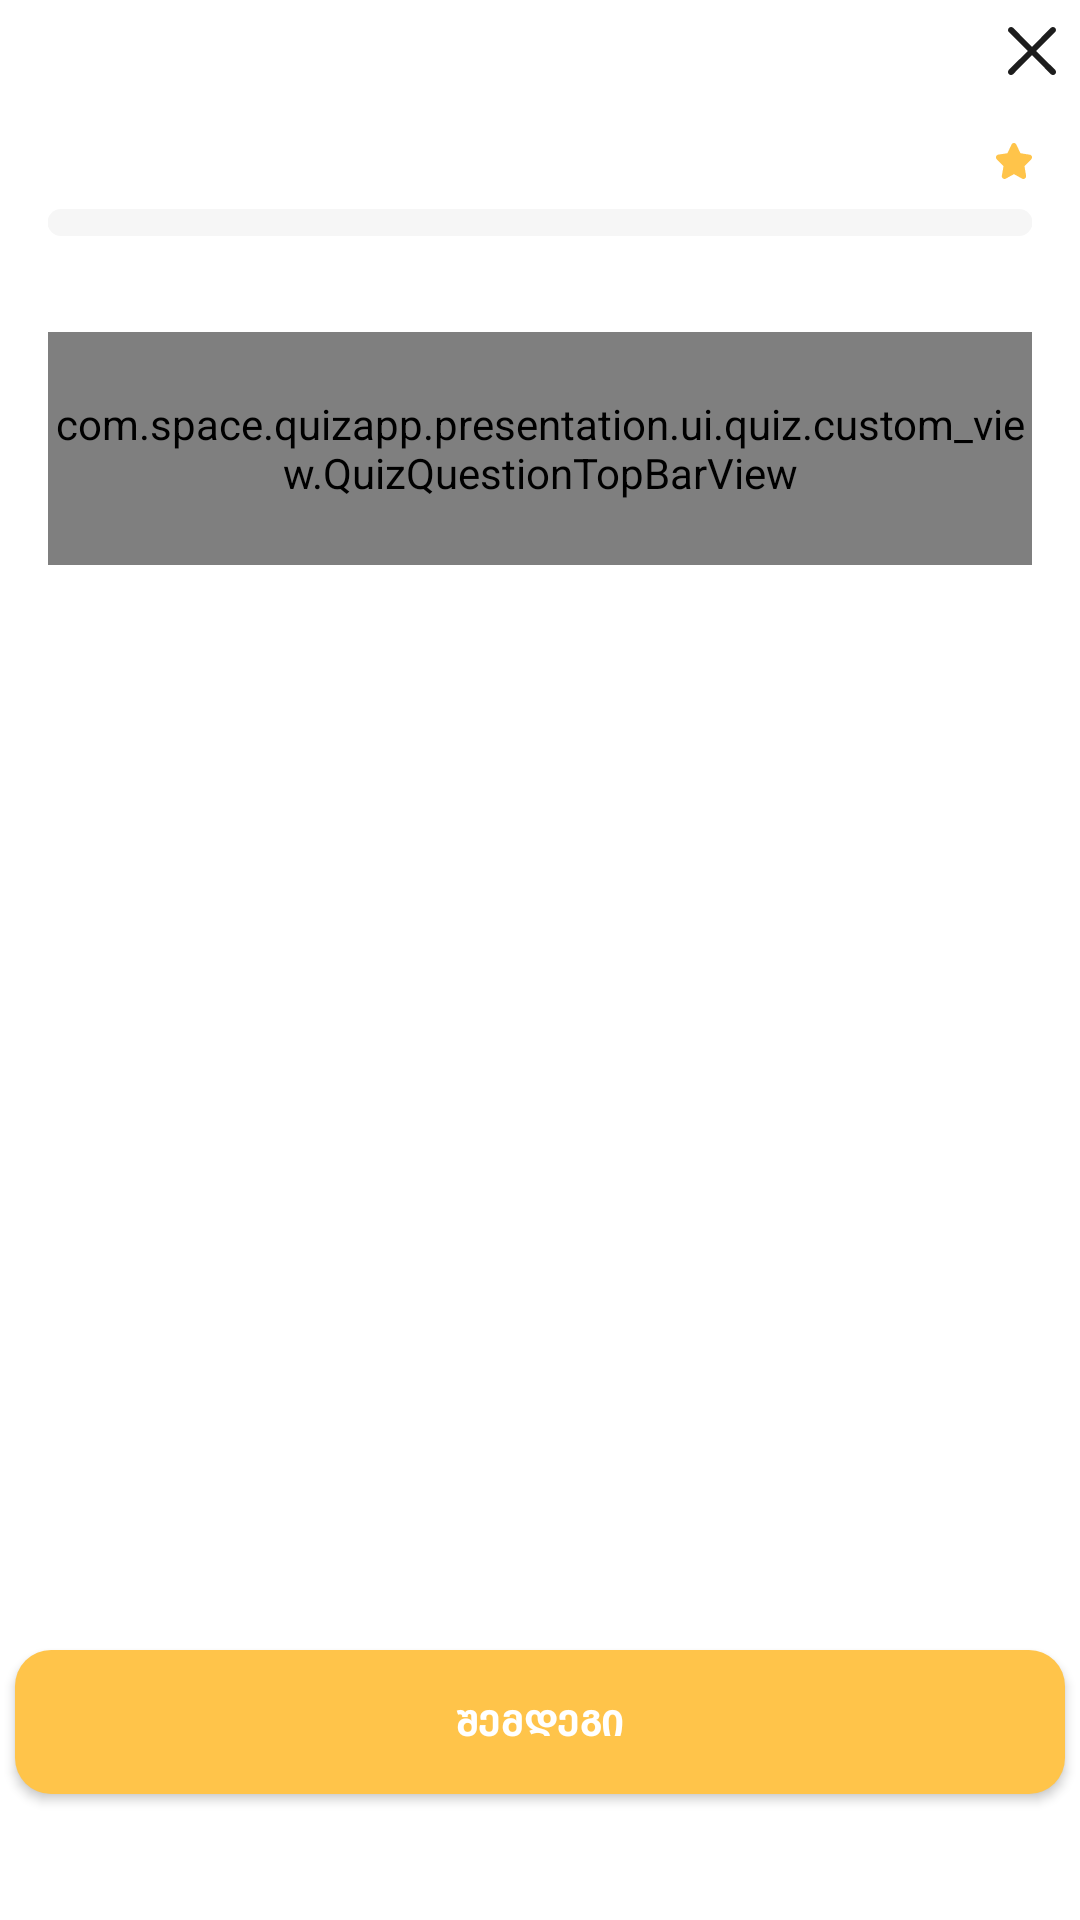

Icons on this 1080×1920 Android screen, each with its box as {"x1": x1, "y1": y1, "x2": x2, "y2": y2}:
exit: {"x1": 1008, "y1": 27, "x2": 1056, "y2": 75}
